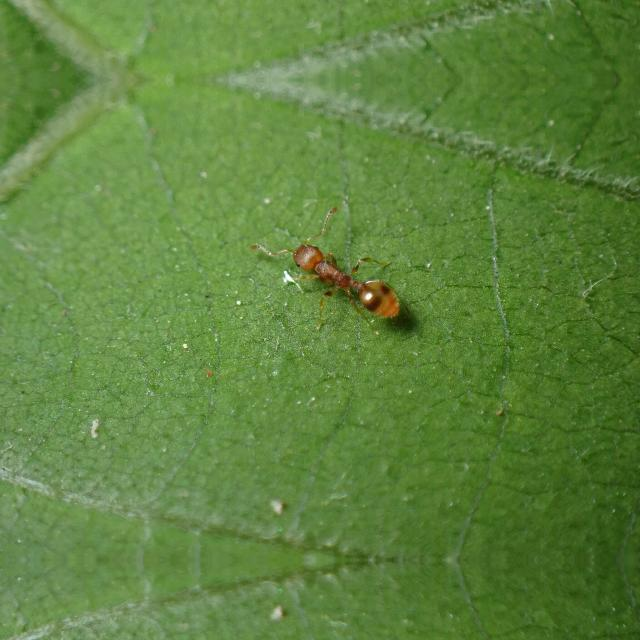Temnothorax: (272, 216, 418, 332)
